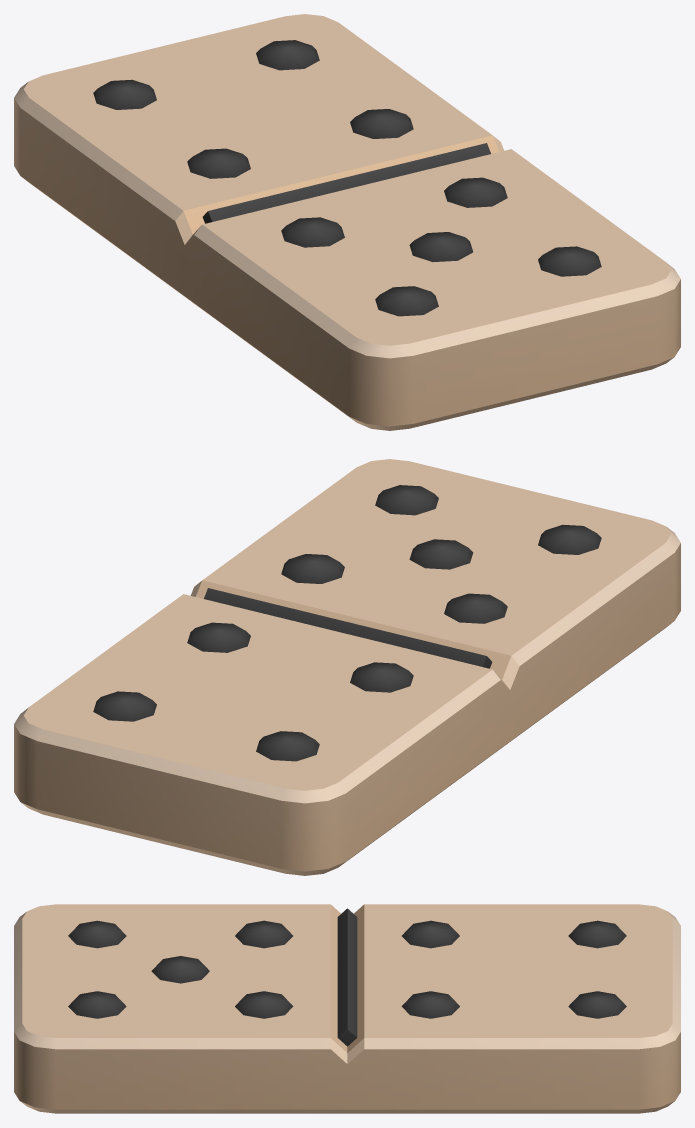
Rendered from domino_tile_4-5.obj.
The picture shows the model from 3 angles, top to bottom: view 1: azimuth 30°, elevation 25°; view 2: azimuth 150°, elevation 25°; view 3: azimuth 270°, elevation 25°; orthographic projection. The views are drawn at different scales.
Visible parts, largest first — view 1: domino_tile_4-5; view 2: domino_tile_4-5; view 3: domino_tile_4-5.
Boxes of the visible parts, x1=… form: domino_tile_4-5: x1=14, y1=14, x2=680, y2=430; domino_tile_4-5: x1=14, y1=459, x2=680, y2=875; domino_tile_4-5: x1=14, y1=904, x2=680, y2=1113.
Bounding box in the file's own units: 1 × 0.2767 × 2.
1 material, 1 textured.
